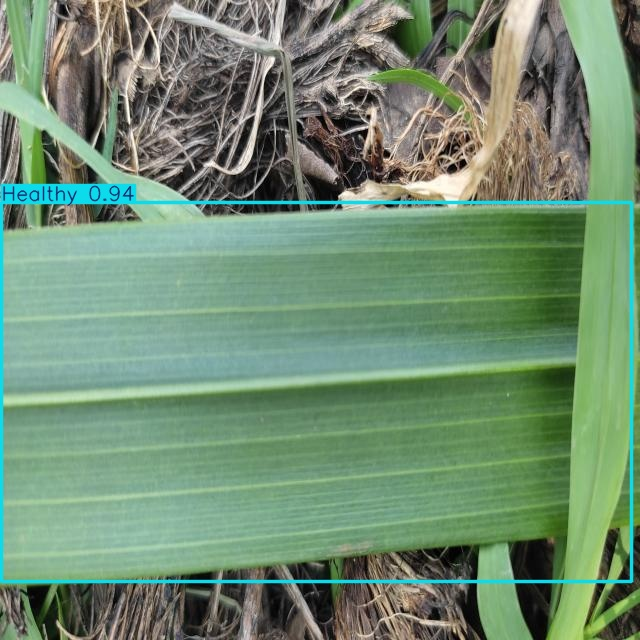Healthy: (1, 203, 631, 582)
